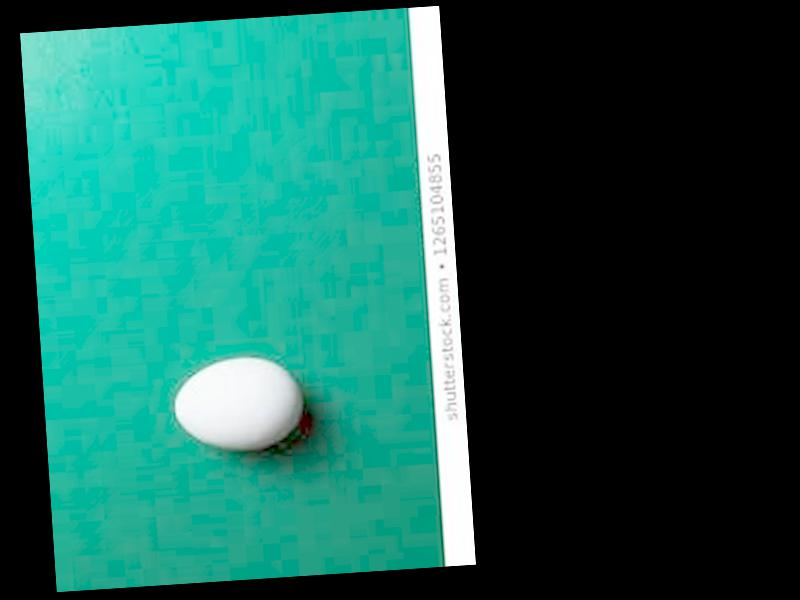Eggs: (172, 350, 304, 450)
